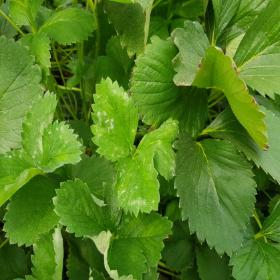Powdery Mildew Leaf: (90, 76, 140, 162), (52, 177, 114, 237), (112, 146, 160, 219), (20, 90, 59, 167), (89, 230, 148, 279), (135, 117, 180, 181), (0, 148, 46, 208), (40, 118, 84, 174), (31, 224, 63, 279)
